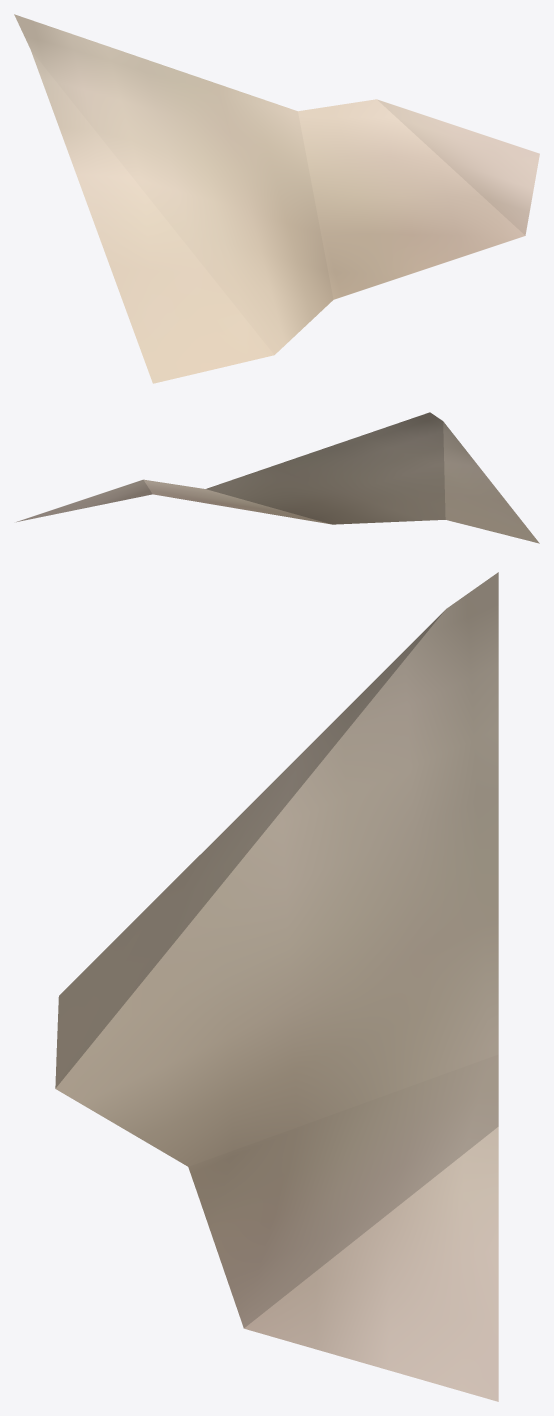
The picture shows the model from 3 angles, top to bottom: view 1: azimuth 30°, elevation 25°; view 2: azimuth 150°, elevation 25°; view 3: azimuth 270°, elevation 25°; orthographic projection. The views are drawn at different scales.
Size of the model in its own units: 0.0399 by 0.0194 by 0.0184.
1 material, 1 textured.
